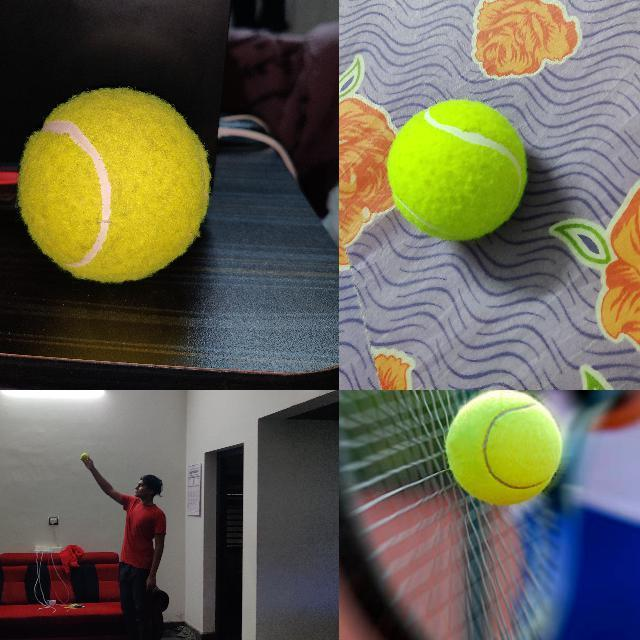tennis-ball: (17, 86, 209, 283), (386, 100, 528, 241), (445, 390, 563, 506), (80, 452, 88, 460)
